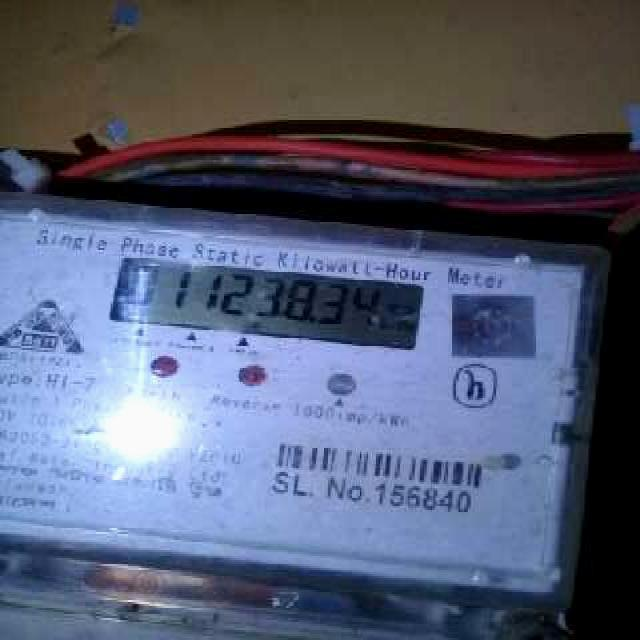LCD: (100, 244, 434, 367)
